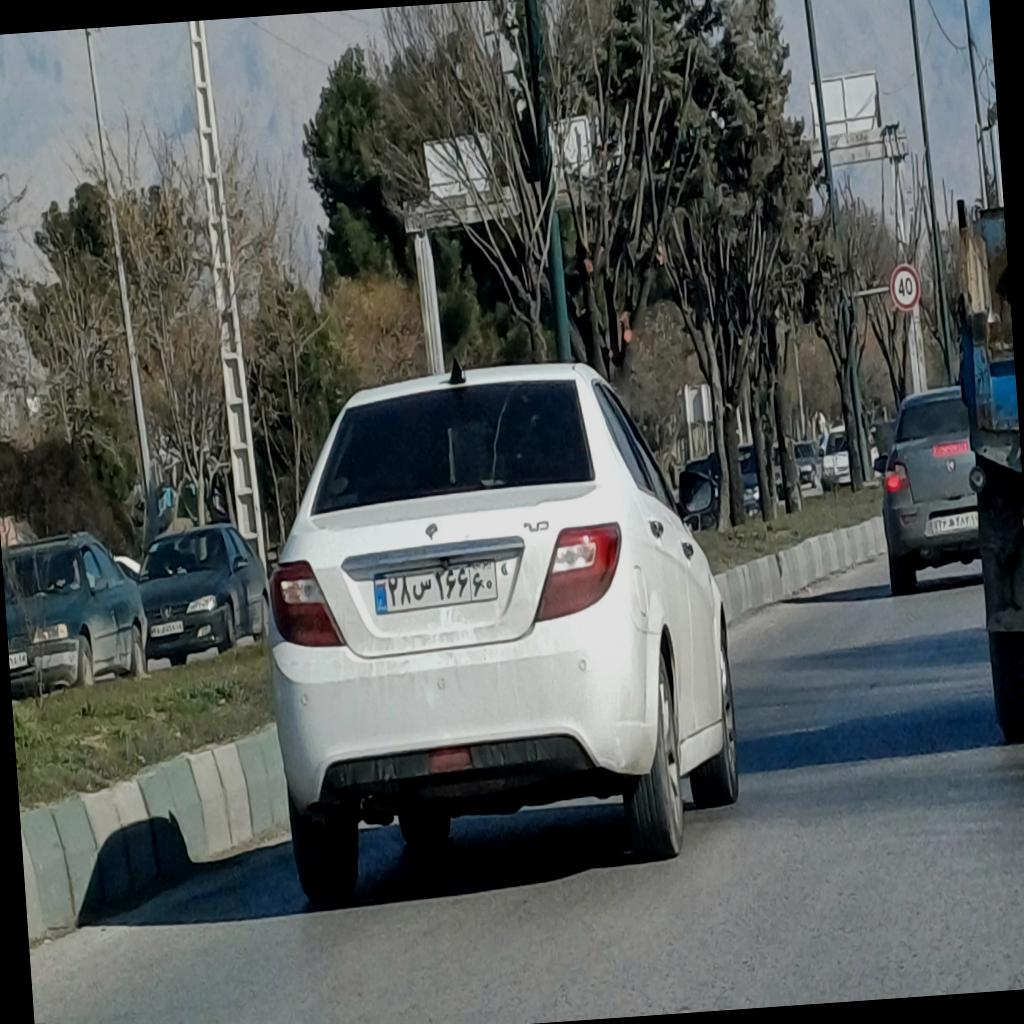Plates: (373, 557, 498, 615)
